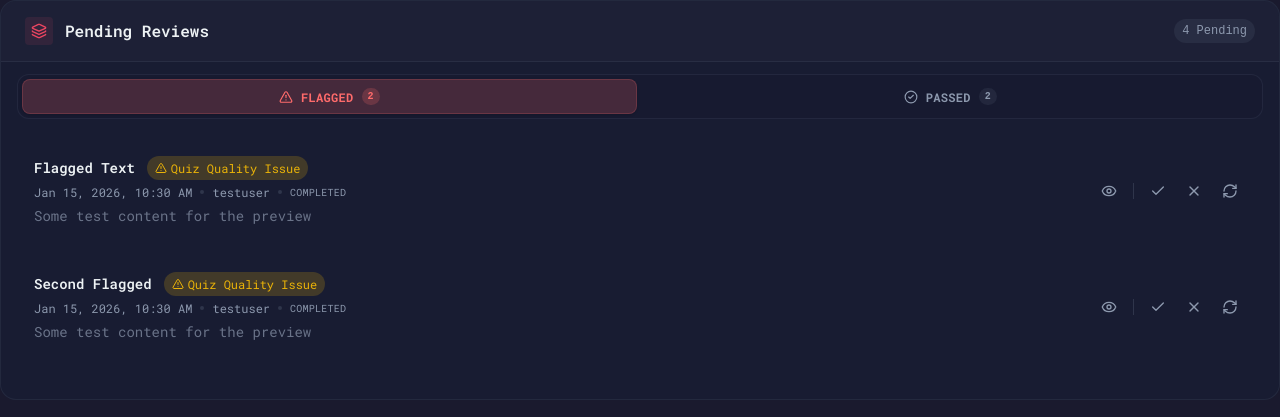
Scenario: ApprovalsList › filtering correctness › should partition multiple texts correctly
expect the heading "Flagged Text" is shown: met, box x1=34 y1=158 x2=135 y2=178
expect the heading "Second Flagged" is shown: met, box x1=34 y1=274 x2=152 y2=294
// Switch to passed tab
Click the button "Passed 2" at (950, 97), box x1=643 y1=79 x2=1258 y2=114
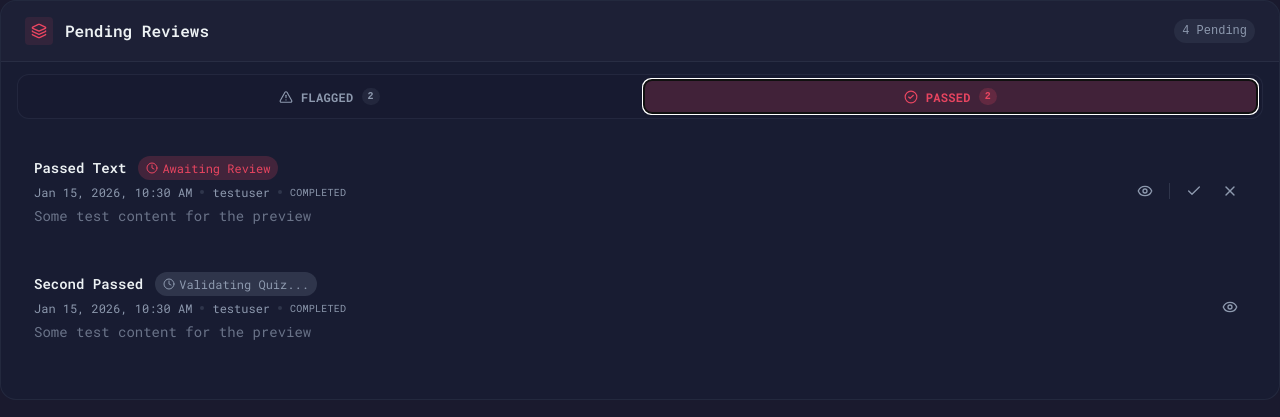
expect the heading "Passed Text" is shown: met, box x1=34 y1=158 x2=126 y2=178
expect the heading "Second Passed" is shown: met, box x1=34 y1=274 x2=143 y2=294
expect the heading "Flagged Text" is gone: met
